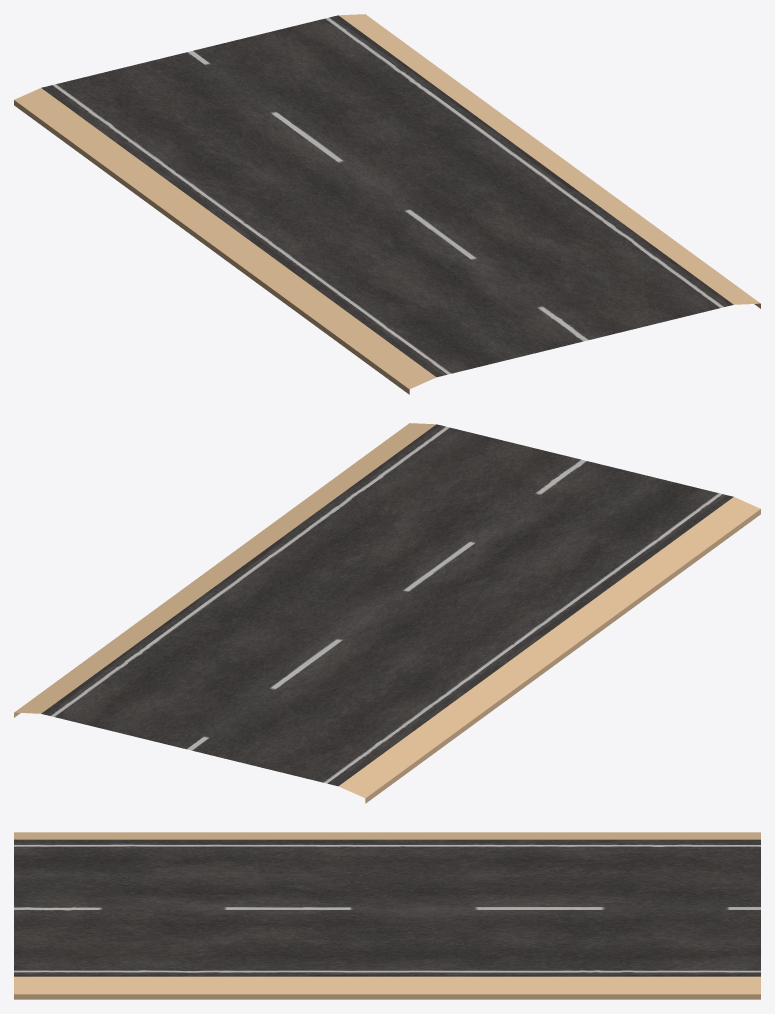
File: new_road.glb
The picture shows the model from 3 angles, top to bottom: view 1: azimuth 30°, elevation 25°; view 2: azimuth 150°, elevation 25°; view 3: azimuth 270°, elevation 25°; orthographic projection. The views are drawn at different scales.
Parts seen in each view (by area): view 1: Cube; view 2: Cube; view 3: Cube.
Part boxes in pixels (x1=…): Cube: x1=14, y1=14, x2=760, y2=394; Cube: x1=14, y1=423, x2=760, y2=803; Cube: x1=14, y1=832, x2=760, y2=999.
Size of the model in its own units: 64.34 by 1.9 by 125.
Materials: 1 (1 with a texture image).
